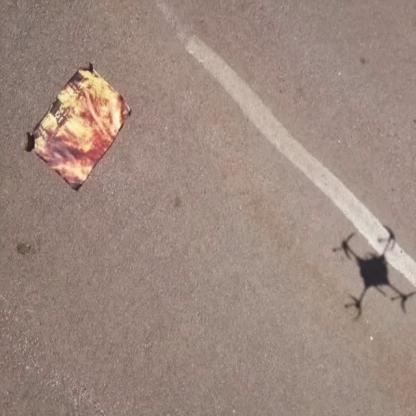fire-poster: (26, 60, 132, 193)
